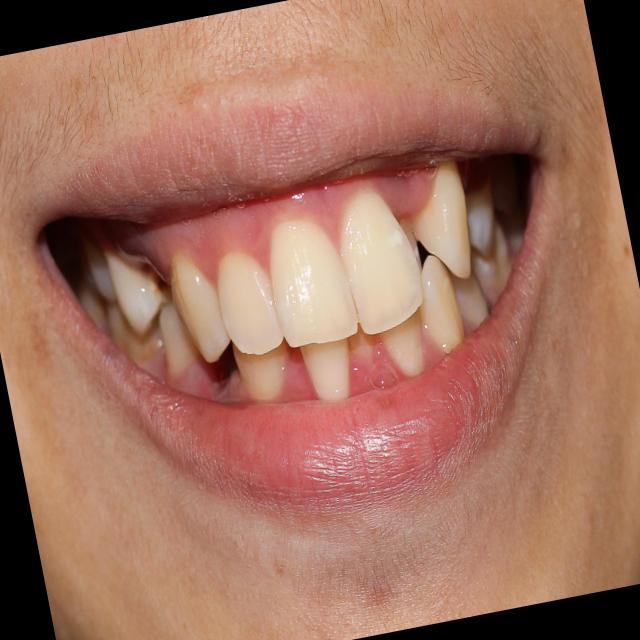Tooth: (341, 191, 424, 335), (271, 220, 359, 348), (169, 253, 232, 363), (218, 252, 284, 356), (414, 160, 471, 278), (105, 251, 163, 333), (420, 255, 465, 348), (470, 222, 515, 305), (233, 340, 287, 397), (377, 307, 422, 375), (300, 338, 349, 400), (160, 300, 201, 371), (449, 268, 488, 327), (465, 179, 494, 258)
